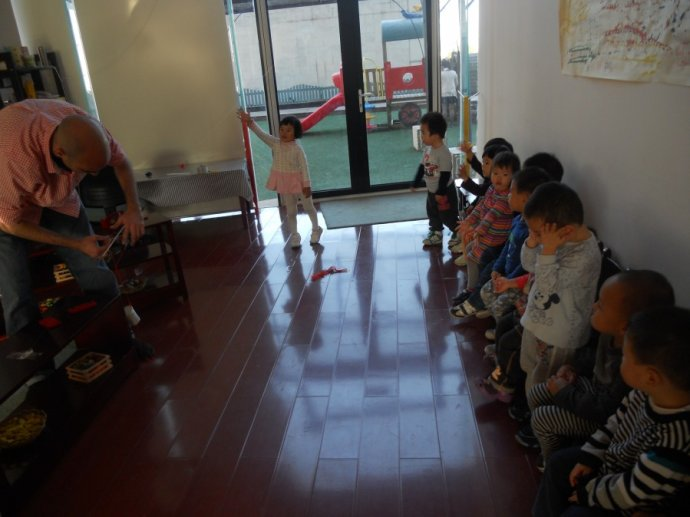handsup: (509, 182, 600, 468), (237, 99, 338, 261)
other: (2, 91, 173, 382)
